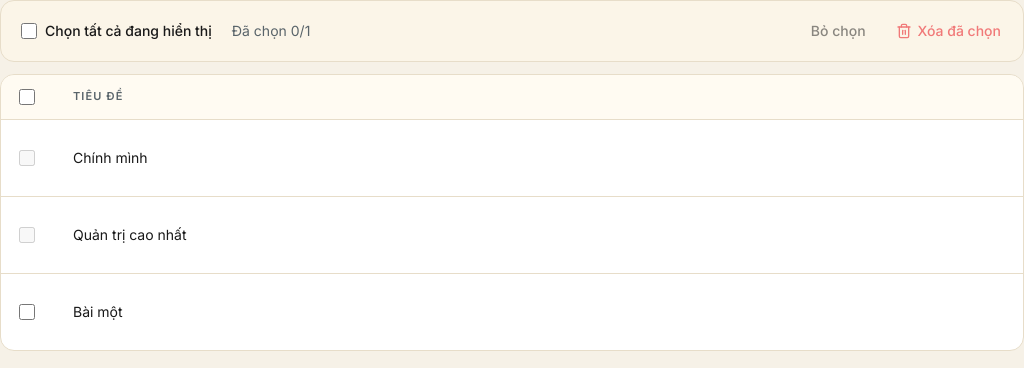
Scenario: Chọn và xóa các mục CMS › tài khoản chính mình và Super Admin không được chọn bởi người được ủy quyền
Click the checkbox labelled "Chọn tất cả đang hiển thị". click: [29, 31]
box: [21,23,37,39]
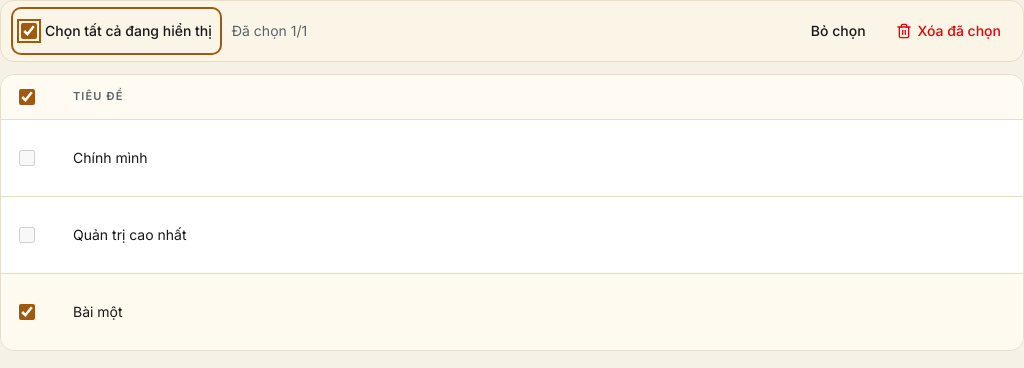
expect the message reads "Đã chọn 1/1": met, box [232,21,307,41]
